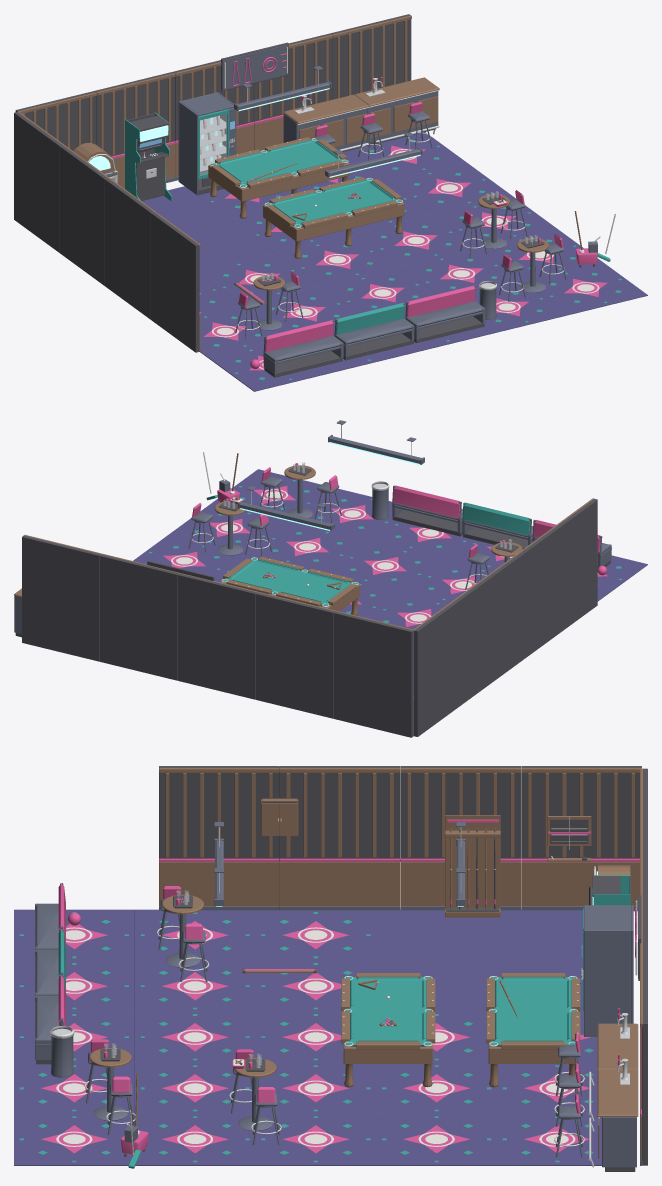
File: bowling-alley-and-pool-hall-pool-and-darts-corner-534c9d7a__33883.glb
The picture shows the model from 3 angles, top to bottom: view 1: azimuth 30°, elevation 25°; view 2: azimuth 150°, elevation 25°; view 3: azimuth 270°, elevation 25°; orthographic projection. The views are drawn at different scales.
Parts seen in each view (by area): view 1: 033-wall-panel-module/0, 031-wall-panel-module/0, 030-wall-panel-module/0, 032-wall-panel-module/0, 029-wall-panel-module/0, 034-pool-table/0, 026-wall-panel-module/0, 038-pool-table/0, 017-carpet-floor-module/0, 024-carpet-floor-module/0, 012-carpet-floor-module/0, 021-carpet-floor-module/0 (+50 smaller); view 2: 025-wall-panel-module/0, 027-wall-panel-module/0, 028-wall-panel-module/0, 029-wall-panel-module/0, 026-wall-panel-module/0, 030-wall-panel-module/0, 031-wall-panel-module/0, 033-wall-panel-module/0, 032-wall-panel-module/0, 013-carpet-floor-module/0, 018-carpet-floor-module/0, 034-pool-table/2 (+20 smaller); view 3: 032-wall-panel-module/1, 032-wall-panel-module/0, 033-wall-panel-module/0, 030-wall-panel-module/0, 033-wall-panel-module/1, 031-wall-panel-module/0, 030-wall-panel-module/1, 048-vending-machine/0, 001-plain-floor-module/0, 031-wall-panel-module/1, 021-carpet-floor-module/0, 002-carpet-floor-module/0 (+43 smaller).
Part boxes in pixels (box(x1,y1,x2,y2)): 033-wall-panel-module/0: box(150, 212, 199, 352); 031-wall-panel-module/0: box(59, 145, 107, 285); 030-wall-panel-module/0: box(14, 112, 62, 252); 032-wall-panel-module/0: box(105, 178, 153, 318); 029-wall-panel-module/0: box(331, 14, 411, 99); 034-pool-table/0: box(263, 177, 404, 258); 026-wall-panel-module/0: box(94, 72, 174, 156); 038-pool-table/0: box(208, 137, 349, 218); 017-carpet-floor-module/0: box(354, 214, 476, 266); 024-carpet-floor-module/0: box(524, 262, 647, 314); 012-carpet-floor-module/0: box(276, 233, 398, 285); 021-carpet-floor-module/0: box(387, 162, 511, 214); 025-wall-panel-module/0: box(334, 611, 413, 737); 027-wall-panel-module/0: box(178, 573, 257, 699); 028-wall-panel-module/0: box(100, 554, 179, 680); 029-wall-panel-module/0: box(22, 535, 101, 661); 026-wall-panel-module/0: box(256, 592, 335, 718); 030-wall-panel-module/0: box(414, 597, 462, 736); 031-wall-panel-module/0: box(460, 564, 507, 703); 033-wall-panel-module/0: box(550, 498, 597, 637); 032-wall-panel-module/0: box(505, 531, 552, 670); 013-carpet-floor-module/0: box(326, 540, 446, 591); 018-carpet-floor-module/0: box(247, 521, 368, 571); 034-pool-table/2: box(223, 558, 357, 605); 032-wall-panel-module/1: box(279, 768, 400, 909); 032-wall-panel-module/0: box(279, 766, 400, 858); 033-wall-panel-module/0: box(159, 766, 279, 861); 030-wall-panel-module/0: box(521, 766, 641, 858); 033-wall-panel-module/1: box(159, 768, 279, 906); 031-wall-panel-module/0: box(400, 766, 520, 858); 030-wall-panel-module/1: box(521, 768, 641, 906); 048-vending-machine/0: box(584, 905, 633, 1036); 001-plain-floor-module/0: box(376, 910, 496, 960); 031-wall-panel-module/1: box(400, 768, 520, 906); 021-carpet-floor-module/0: box(376, 1114, 496, 1165); 002-carpet-floor-module/0: box(255, 910, 376, 960).
Size of the model in its own units: 10.4 by 3.5 by 10.5.
